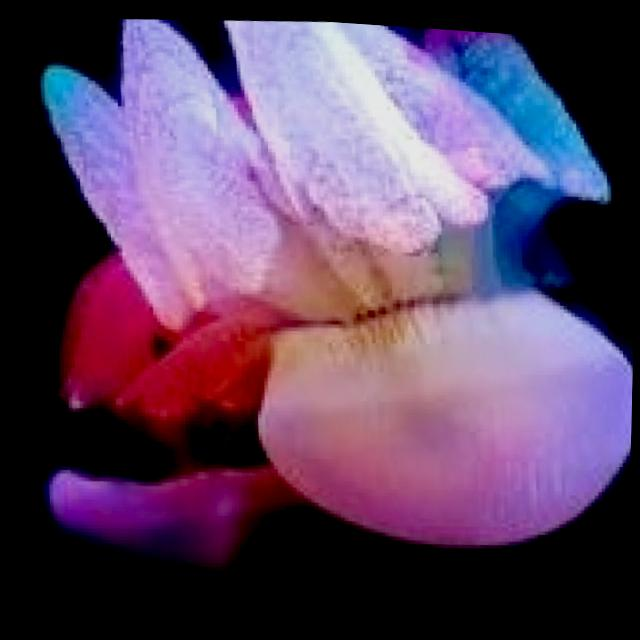Moon-jellyfish: (17, 1, 640, 604)
